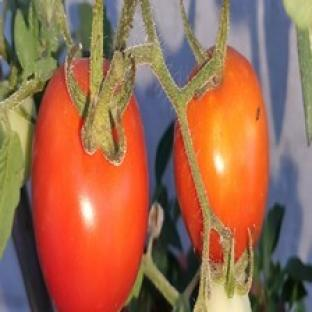Tomato: (31, 67, 149, 311), (187, 48, 268, 259)
